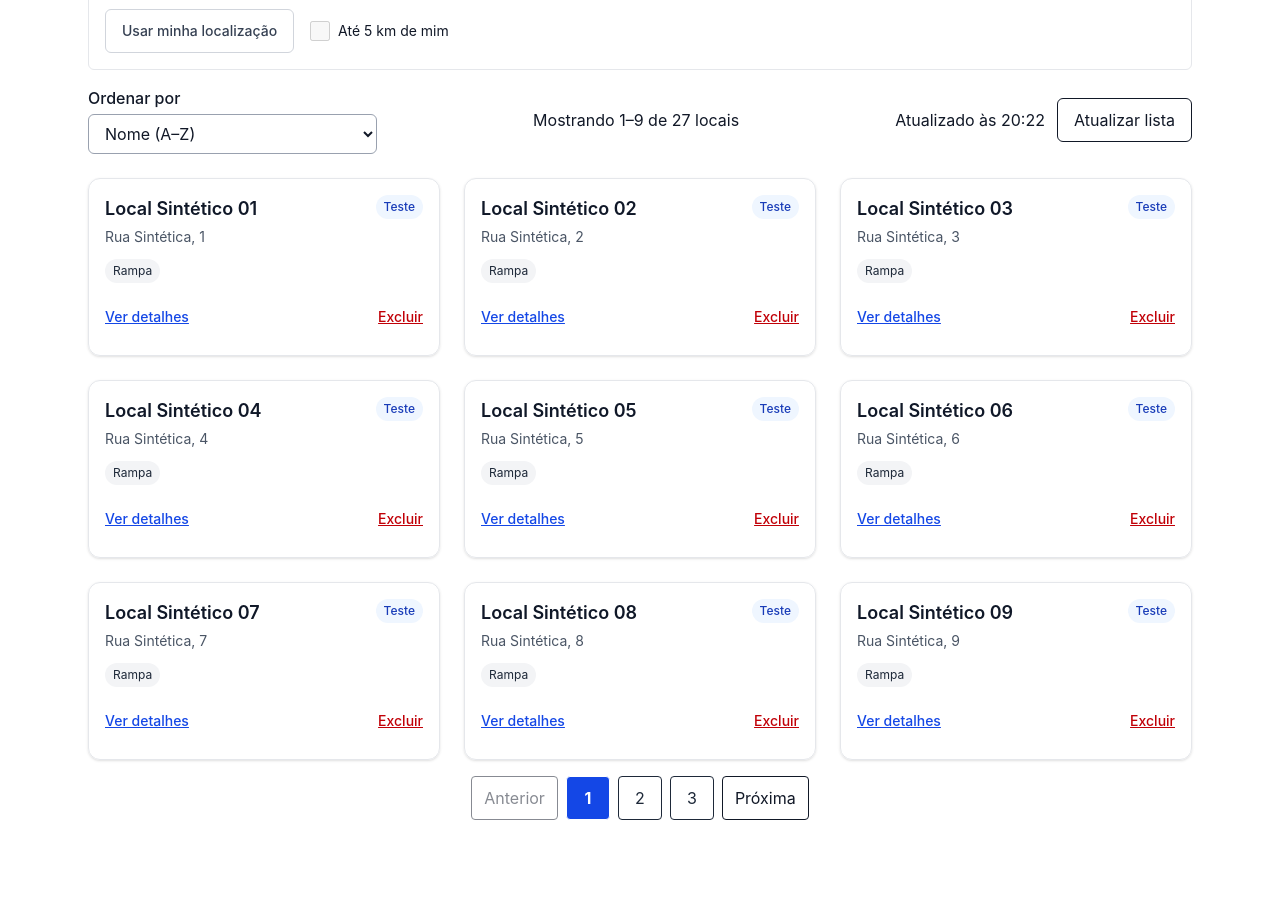
Test: reinicia a paginação ao aplicar proximidade, sem perder os resultados filtrados
(page scrolled)
expect the text "Mostrando 1–9 de 27 locais" is shown: met, box [533,108,739,132]
Click the button named "Página 3" at (692, 798), box [670,776,714,820]
(page scrolled)
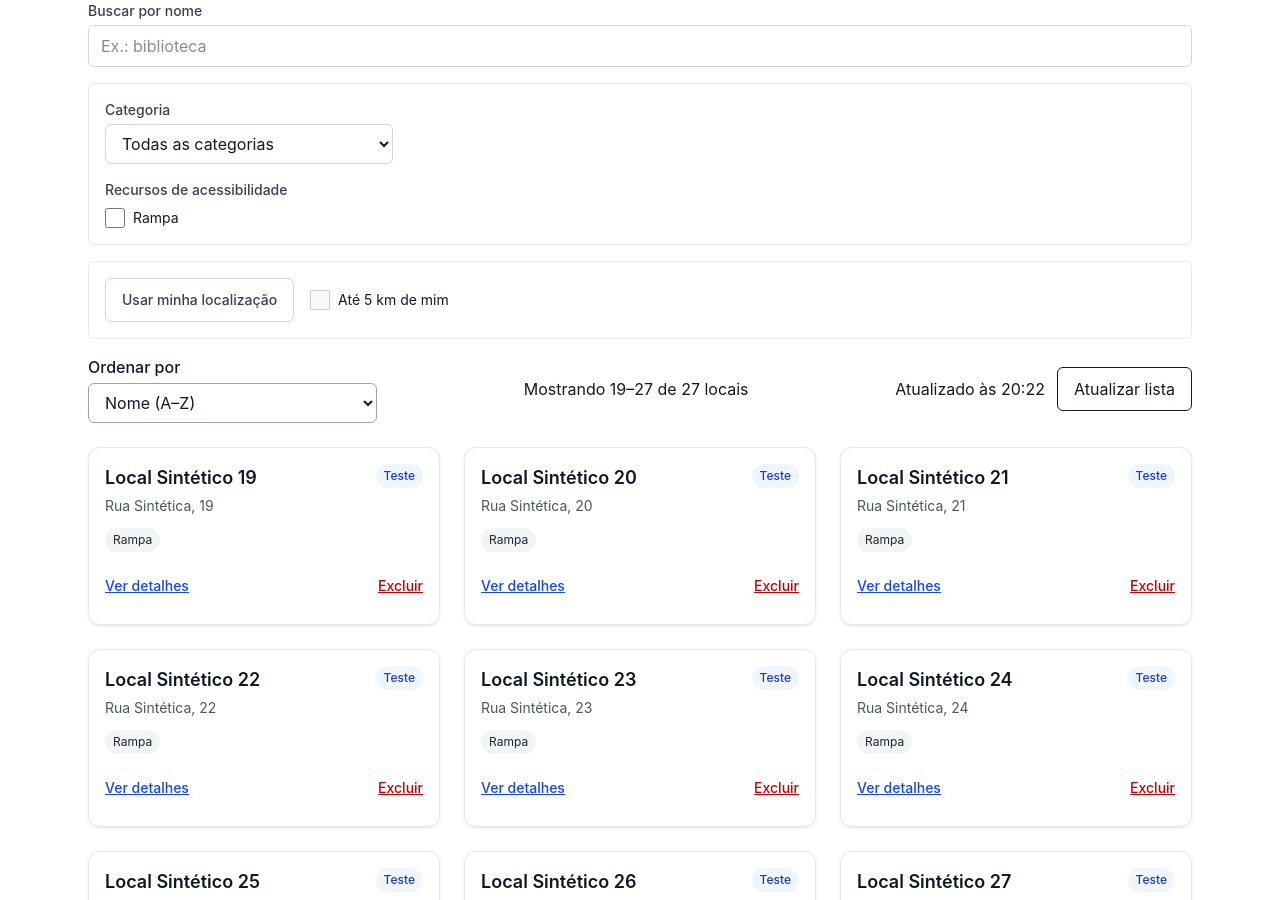
expect the text "Mostrando 19–27 de 27 locais" is shown: met, box [524,377,748,401]
Click the button "Usar minha localização" at (200, 300), box [105,278,294,322]
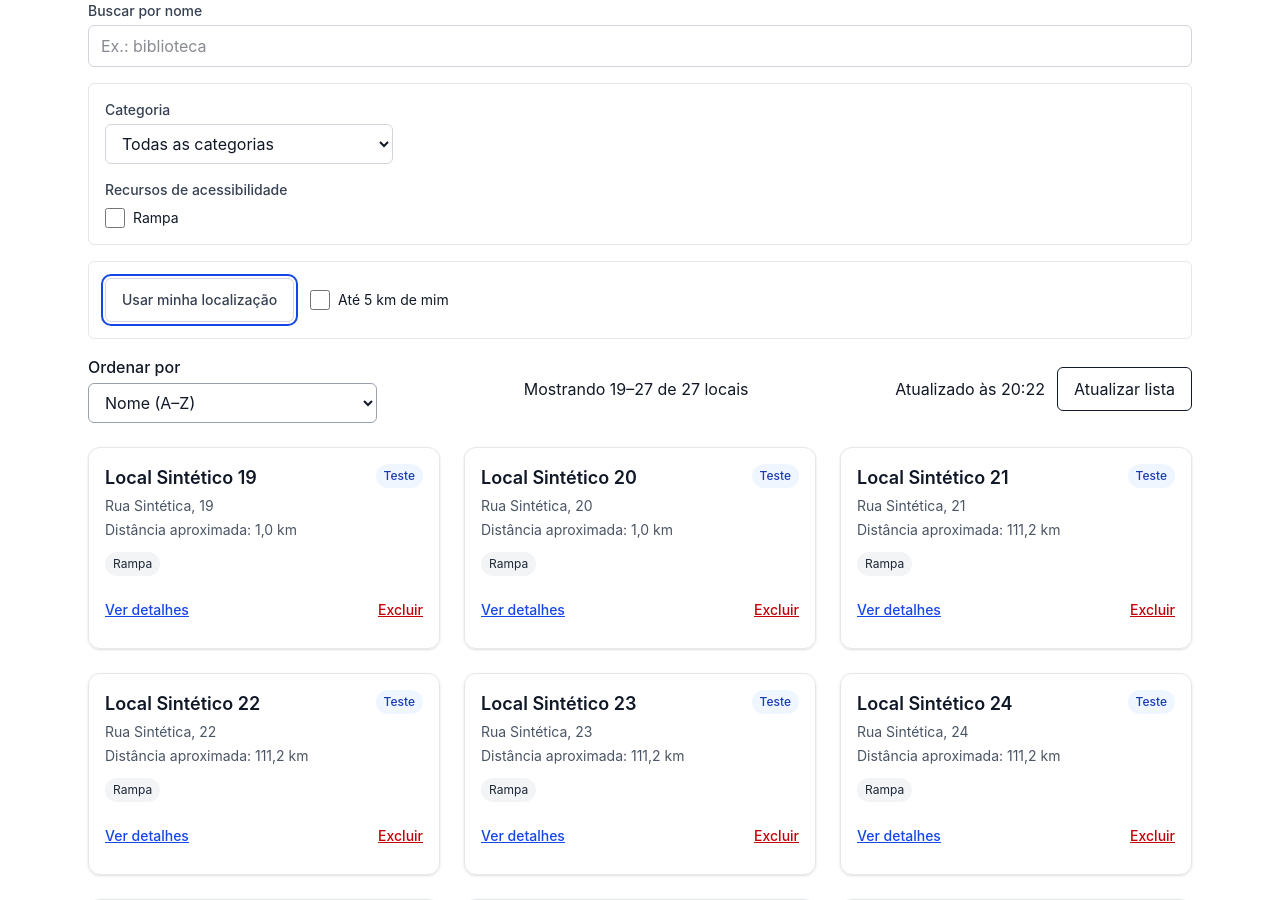
Click the checkbox labelled "Até 5 km de mim" at (320, 300), box [310,290,330,310]
(page scrolled)
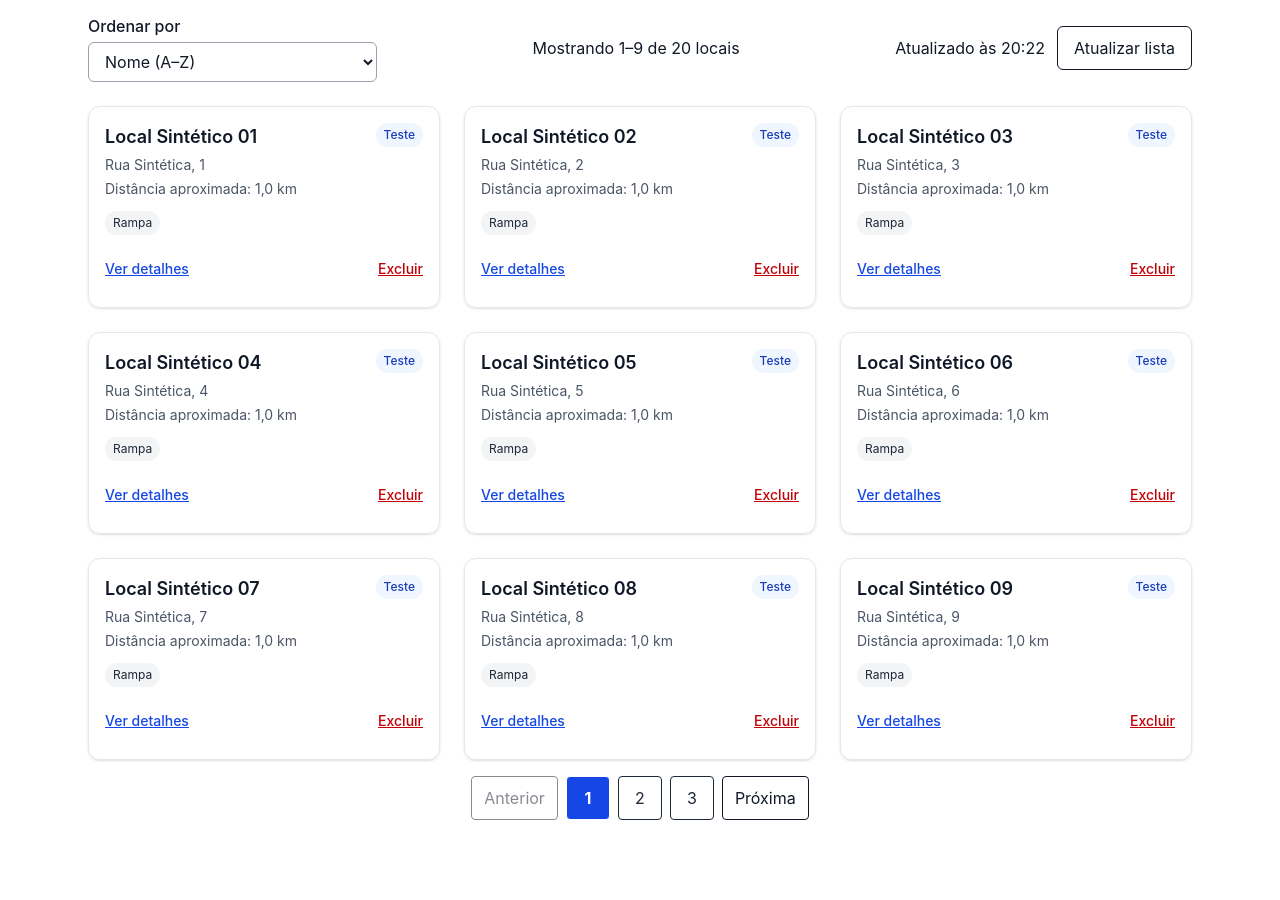
expect the text "Mostrando 1–9 de 20 locais" is shown: met, box [533,36,740,60]
